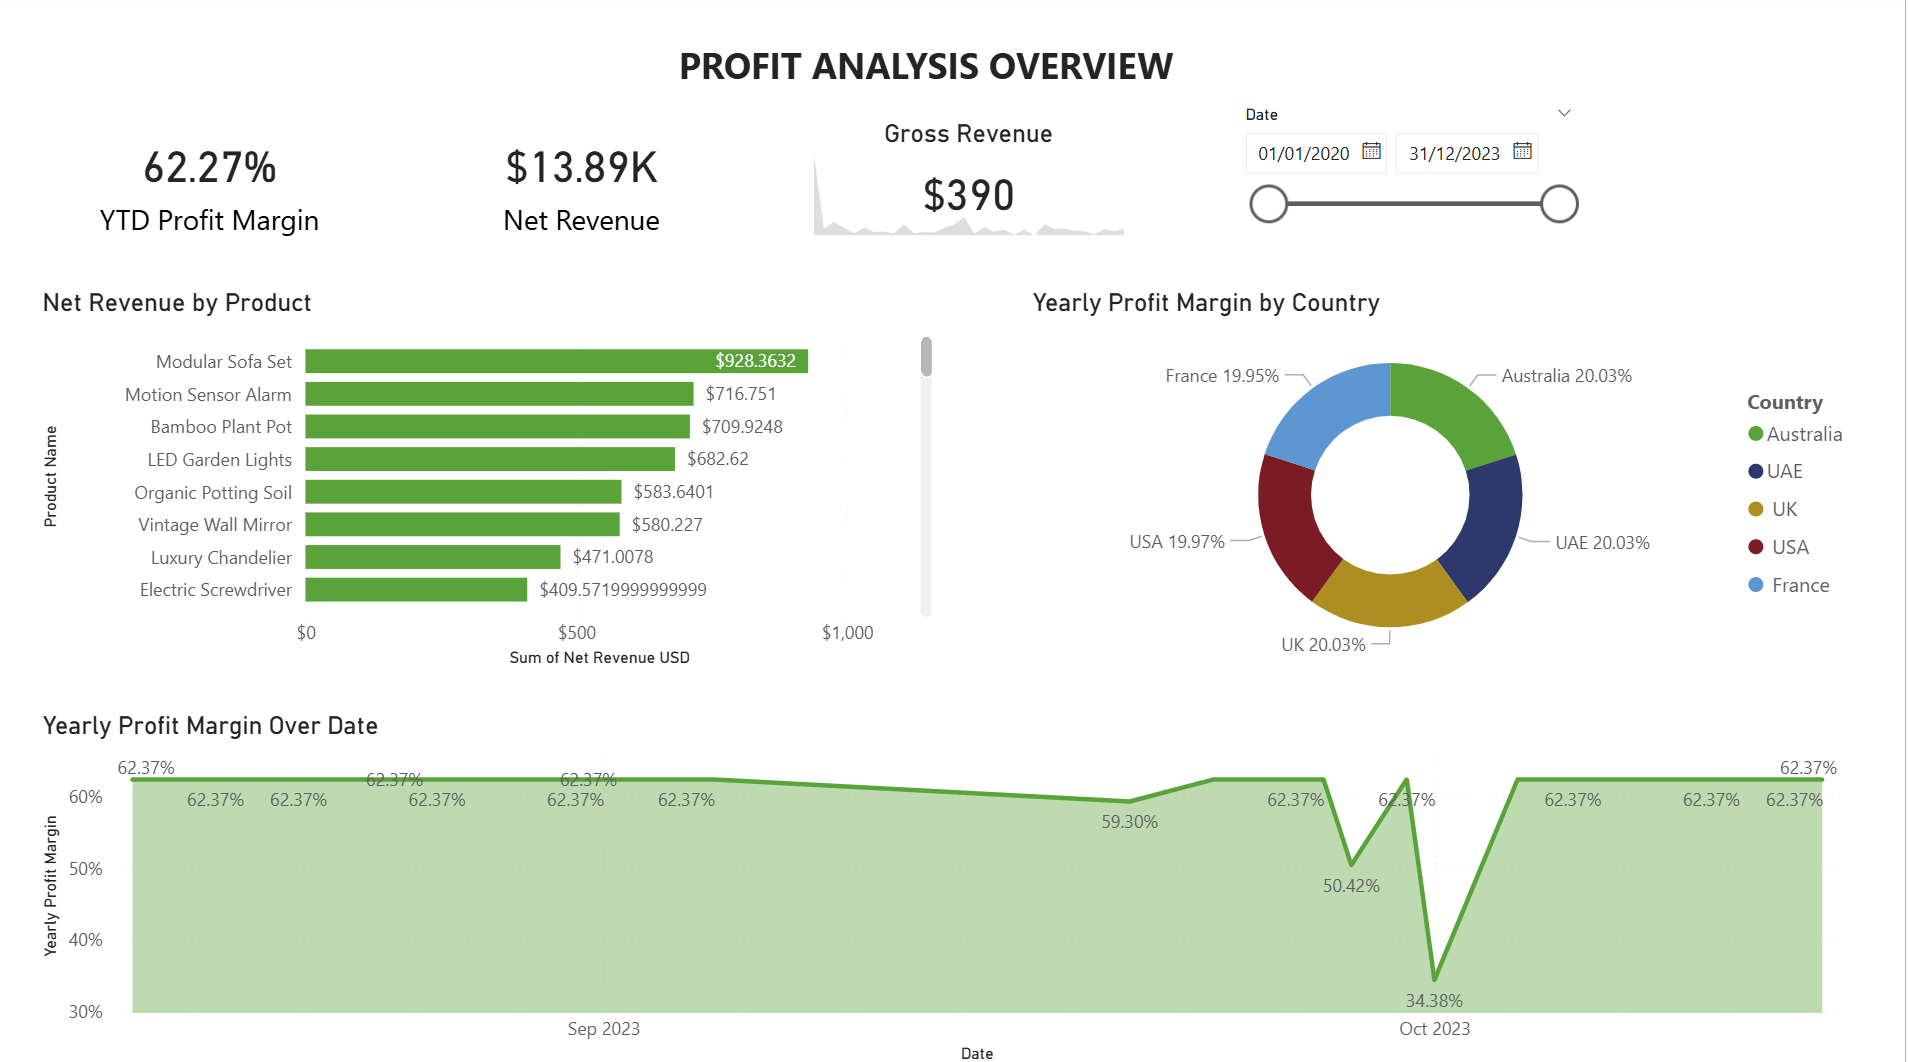

This screenshot's page, from the dashboard's own definition file:
{"tool":"powerbi","page":{"name":"Profit Overview","canvas":[1280,720],"ordinal":1},"visuals":[{"type":"barChart","title":"Net Revenue  by Product","fields":{"Category":["Sales in USD.Product Name"],"Y":["Sum(Sales in USD.Net Revenue USD)"]},"box":[26.2,196.1,606.5,258.5],"z":0},{"type":"donutChart","fields":{"Y":["aggregation.Yearly Profit Margin"],"Category":["Countries.Country"]},"box":[690,196.1,563.2,258.5],"z":1000},{"type":"areaChart","title":"Yearly Profit Margin Over Date","fields":{"Y":["aggregation.Yearly Profit Margin"],"Category":["CalendarTable.Date"]},"box":[26.2,479.8,1227,240.4],"z":2000},{"type":"card","fields":{"Values":["aggregation.YTD Profit Margin"]},"box":[26.2,82.5,233.3,85.5],"z":3000},{"type":"card","fields":{"Values":["Sum(Sales in USD.Net Revenue USD)"]},"box":[285.6,82.5,213.2,85.5],"z":4000},{"type":"kpi","title":"Gross Revenue ","fields":{"Indicator":["Sum(Sales in USD.Gross Revenue USD)"],"TrendLine":["CalendarTable.Date"]},"box":[543.1,82.5,218.3,83.5],"z":5000},{"type":"slicer","fields":{"Values":["CalendarTable.Date"]},"box":[824.7,68.4,244.4,103.6],"z":5001},{"type":"textbox","box":[312.8,25.1,621.6,43.2],"z":5002}]}

Visuals, with their boxes in screenshot pixels (x1, y1, x2, y2), scaled from the page's 1280x720 canvas onto the 1909x1062 screenshot:
"Net Revenue  by Product" barChart: 39:289:944:671
donutChart - aggregation.Yearly Profit Margin x Countries.Country: 1029:289:1869:671
"Yearly Profit Margin Over Date" areaChart: 39:708:1869:1061
card - aggregation.YTD Profit Margin: 39:122:387:248
card - Sum(Sales in USD.Net Revenue USD): 426:122:744:248
"Gross Revenue " kpi: 810:122:1136:245
slicer - CalendarTable.Date: 1230:101:1594:254
textbox: 467:37:1394:101
